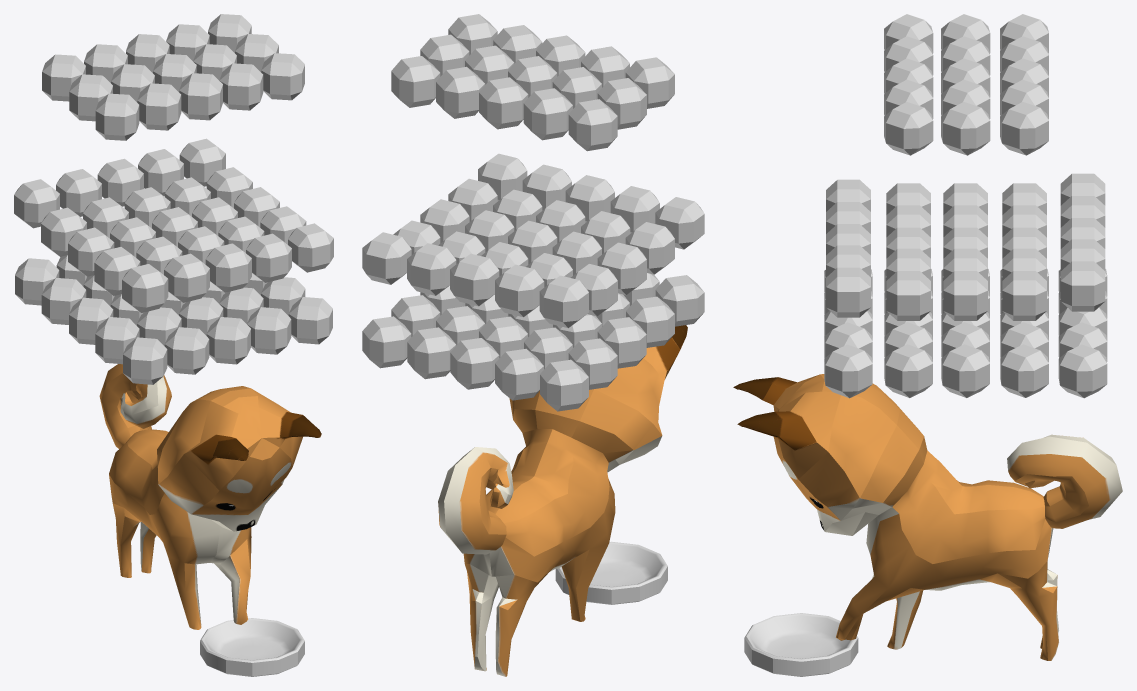
The model's file is emptyBowl_frame13.obj.
The picture shows the model from 3 angles, left to right: view 1: azimuth 30°, elevation 25°; view 2: azimuth 150°, elevation 25°; view 3: azimuth 270°, elevation 25°; orthographic projection. The views are drawn at different scales.
Visible parts, largest first — view 1: newRigging1:BodzL1, FressnapfLeer:pCylinder1, FressnapfFull:pCube45, FressnapfFull:pCube46, FressnapfFull:pCube57, FressnapfFull:pCube42, FressnapfFull:pCube49, FressnapfFull:pCube36, FressnapfFull:pCube43, FressnapfFull:pCube48, FressnapfFull:pCube50, FressnapfFull:pCube44 (+44 smaller); view 2: newRigging1:BodzL1, FressnapfLeer:pCylinder1, FressnapfFull:pCube39, FressnapfFull:pCube51, FressnapfFull:pCube64, FressnapfFull:pCube55, FressnapfFull:pCube37, FressnapfFull:pCube53, FressnapfFull:pCube54, FressnapfFull:pCube41, FressnapfFull:pCube38, FressnapfFull:pCube65 (+48 smaller); view 3: newRigging1:BodzL1, FressnapfLeer:pCylinder1, FressnapfFull:pCube55, FressnapfFull:pCube31, FressnapfFull:pCube36, FressnapfFull:pCube4, FressnapfFull:pCube10, FressnapfFull:pCube15, FressnapfFull:pCube50, FressnapfFull:pCube41, FressnapfFull:pCube65, FressnapfFull:pCube58 (+42 smaller).
Boxes of the visible parts, x1=… form: newRigging1:BodzL1: x1=99, y1=364, x2=321, y2=629; FressnapfLeer:pCylinder1: x1=200, y1=618, x2=304, y2=676; FressnapfFull:pCube45: x1=95, y1=93, x2=139, y2=140; FressnapfFull:pCube46: x1=123, y1=337, x2=167, y2=384; FressnapfFull:pCube57: x1=122, y1=264, x2=168, y2=312; FressnapfFull:pCube42: x1=137, y1=83, x2=181, y2=130; FressnapfFull:pCube49: x1=164, y1=327, x2=209, y2=374; FressnapfFull:pCube36: x1=261, y1=53, x2=304, y2=100; FressnapfFull:pCube43: x1=179, y1=73, x2=222, y2=120; FressnapfFull:pCube48: x1=206, y1=317, x2=250, y2=364; FressnapfFull:pCube50: x1=288, y1=297, x2=332, y2=344; FressnapfFull:pCube44: x1=219, y1=63, x2=263, y2=110; newRigging1:BodzL1: x1=438, y1=325, x2=687, y2=676; FressnapfLeer:pCylinder1: x1=555, y1=541, x2=667, y2=604; FressnapfFull:pCube39: x1=568, y1=99, x2=617, y2=151; FressnapfFull:pCube51: x1=540, y1=359, x2=588, y2=411; FressnapfFull:pCube64: x1=539, y1=275, x2=588, y2=328; FressnapfFull:pCube55: x1=362, y1=316, x2=411, y2=368; FressnapfFull:pCube37: x1=523, y1=88, x2=572, y2=140; FressnapfFull:pCube53: x1=450, y1=338, x2=499, y2=389; FressnapfFull:pCube54: x1=495, y1=348, x2=543, y2=400; FressnapfFull:pCube41: x1=391, y1=56, x2=440, y2=107; FressnapfFull:pCube38: x1=479, y1=77, x2=528, y2=129; FressnapfFull:pCube65: x1=362, y1=232, x2=411, y2=284; newRigging1:BodzL1: x1=733, y1=374, x2=1122, y2=660; FressnapfLeer:pCylinder1: x1=744, y1=613, x2=858, y2=676; FressnapfFull:pCube55: x1=1058, y1=344, x2=1107, y2=398; FressnapfFull:pCube31: x1=941, y1=102, x2=990, y2=155; FressnapfFull:pCube36: x1=884, y1=102, x2=933, y2=155; FressnapfFull:pCube4: x1=941, y1=344, x2=989, y2=397; FressnapfFull:pCube10: x1=884, y1=344, x2=932, y2=397; FressnapfFull:pCube15: x1=1000, y1=344, x2=1048, y2=397; FressnapfFull:pCube50: x1=824, y1=344, x2=872, y2=398; FressnapfFull:pCube41: x1=1000, y1=102, x2=1048, y2=155; FressnapfFull:pCube65: x1=1060, y1=261, x2=1105, y2=311; FressnapfFull:pCube58: x1=826, y1=267, x2=870, y2=317.
Size of the model in its own units: 5.73 by 14.49 by 8.7.
Materials: 3 (2 with a texture image).
